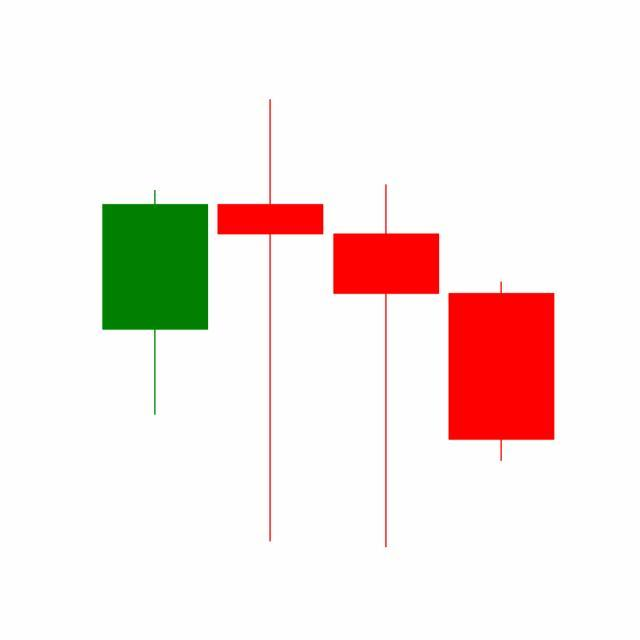Dragonfly Doji: (329, 182, 445, 553)
